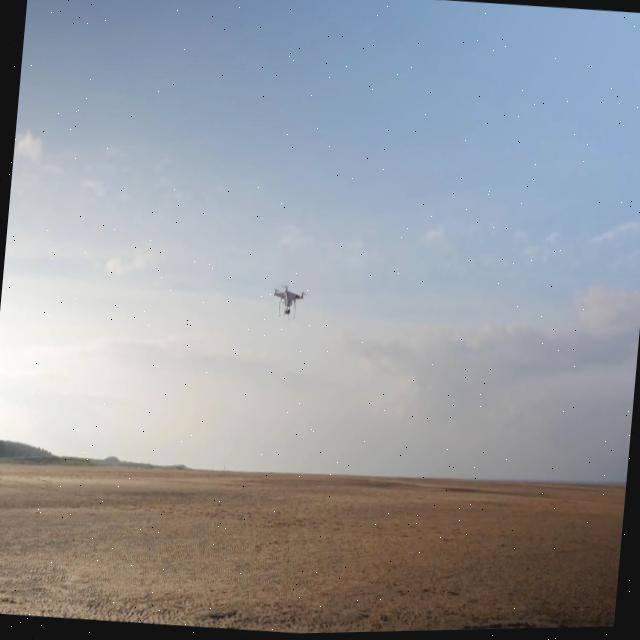drone: (268, 282, 306, 322)
